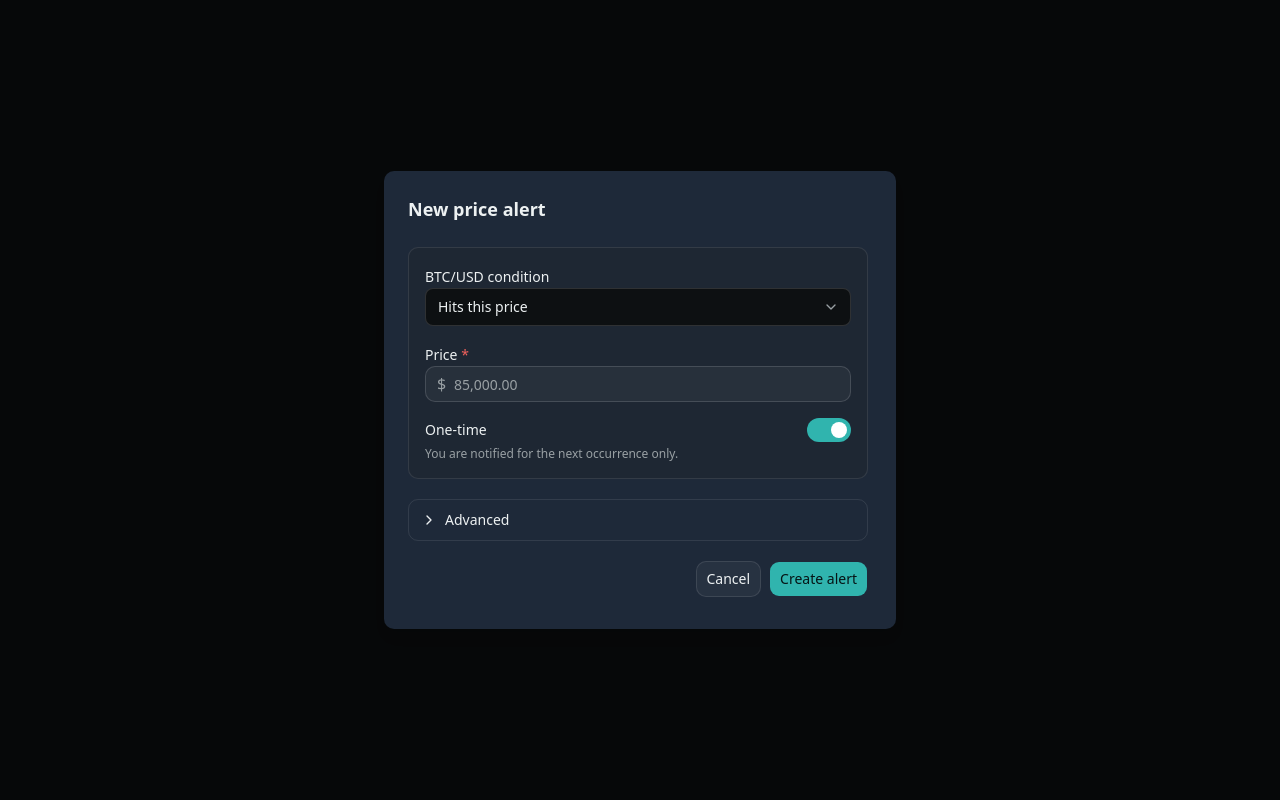
Test: PriceAlertForm › shows a validation error when the price is missing
Click the button "Create alert". click: click(819, 579)
box: [769,561,868,597]
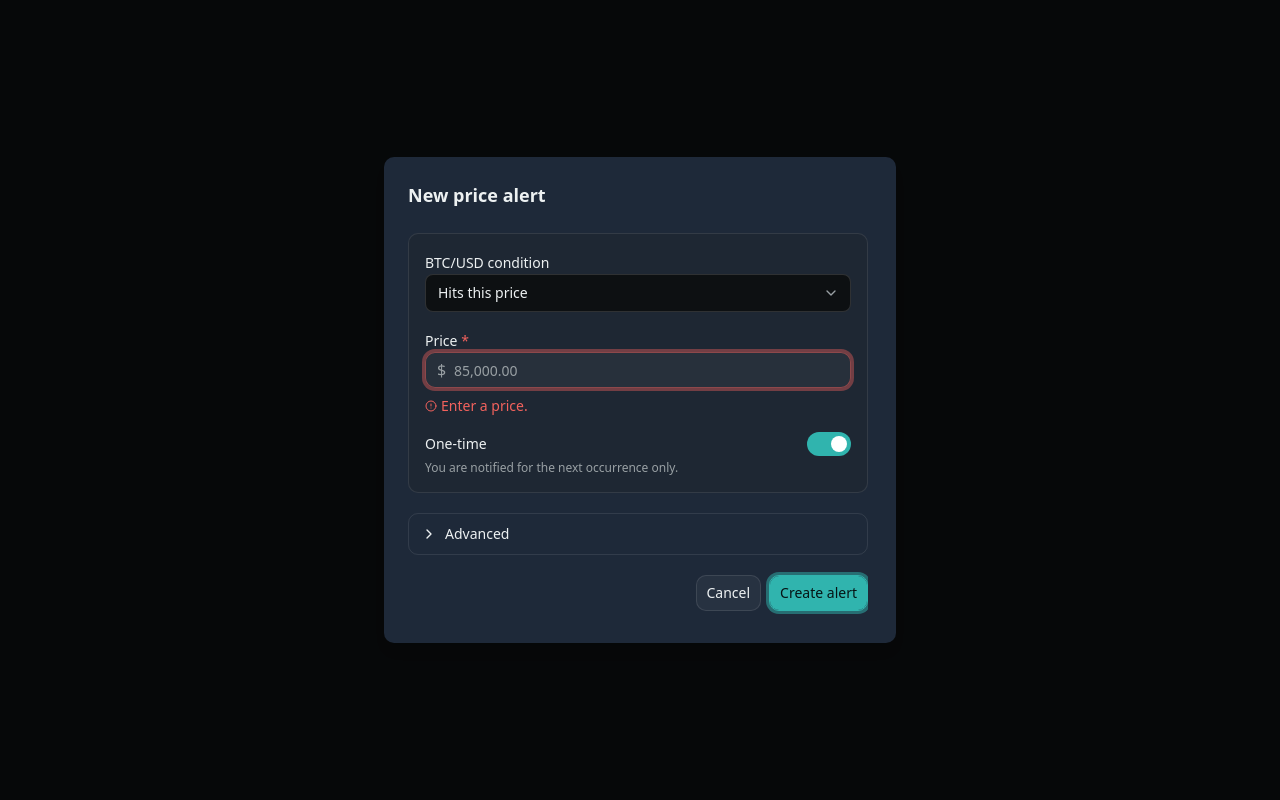
Now the text "Enter a price." is shown, box [425,396,528,415]
